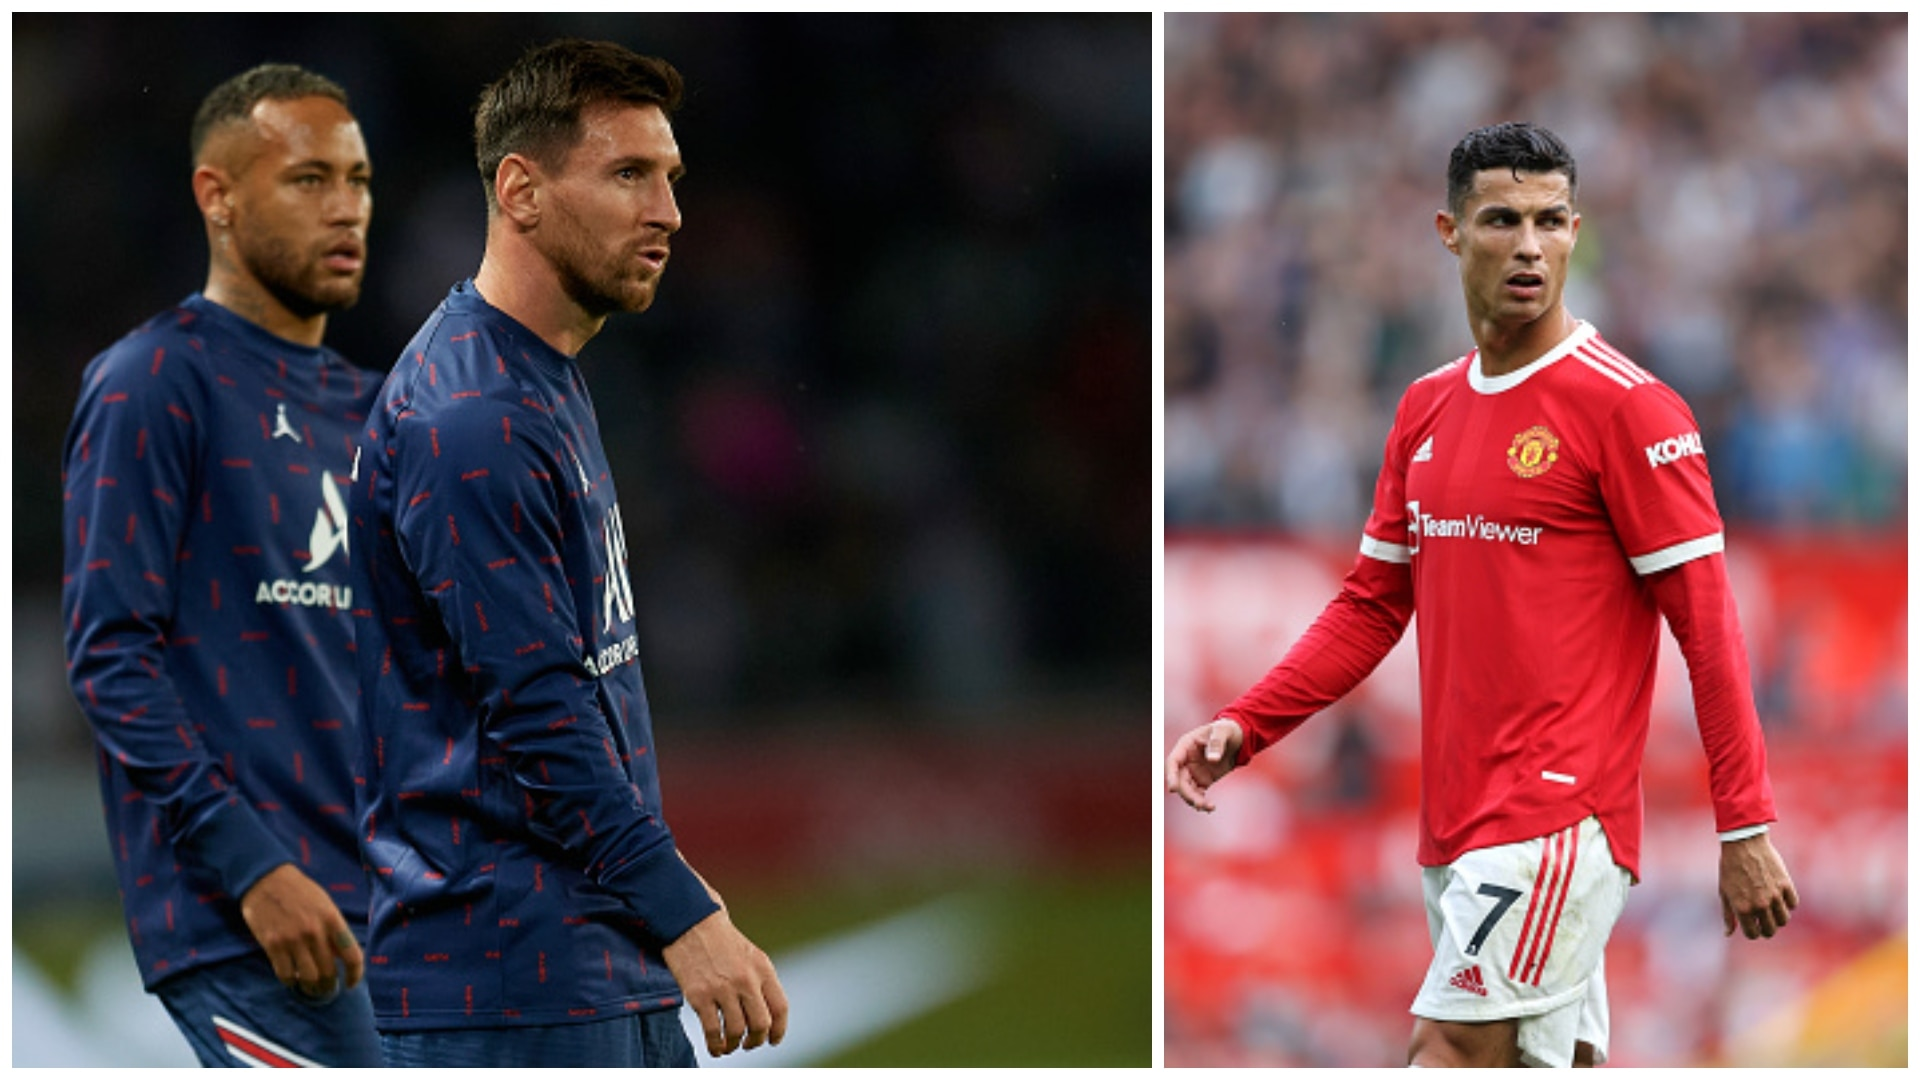NoMask: (573, 146, 685, 317), (263, 151, 369, 309), (1471, 194, 1569, 315)
